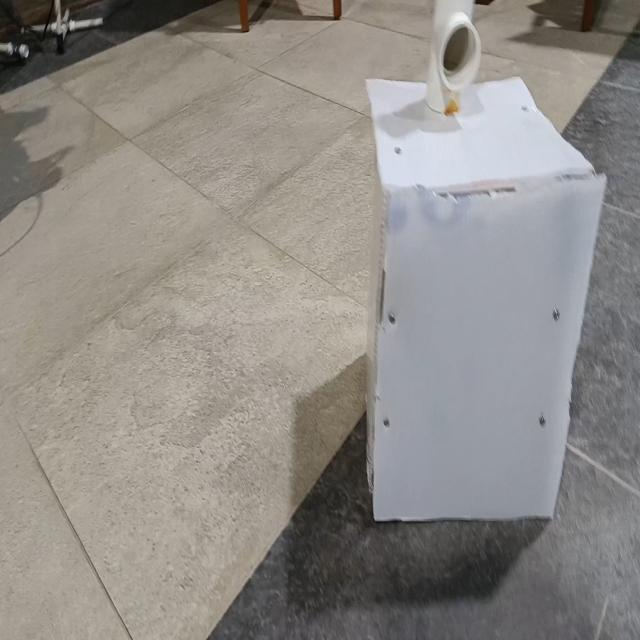Cube: (364, 73, 606, 524)
